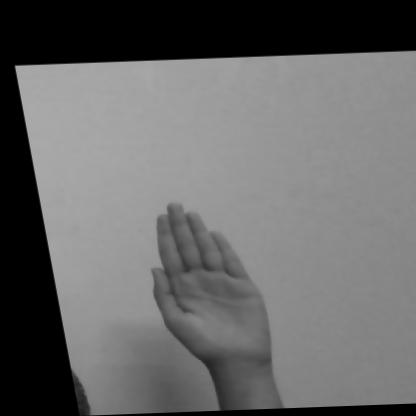palm: (96, 187, 336, 396)
